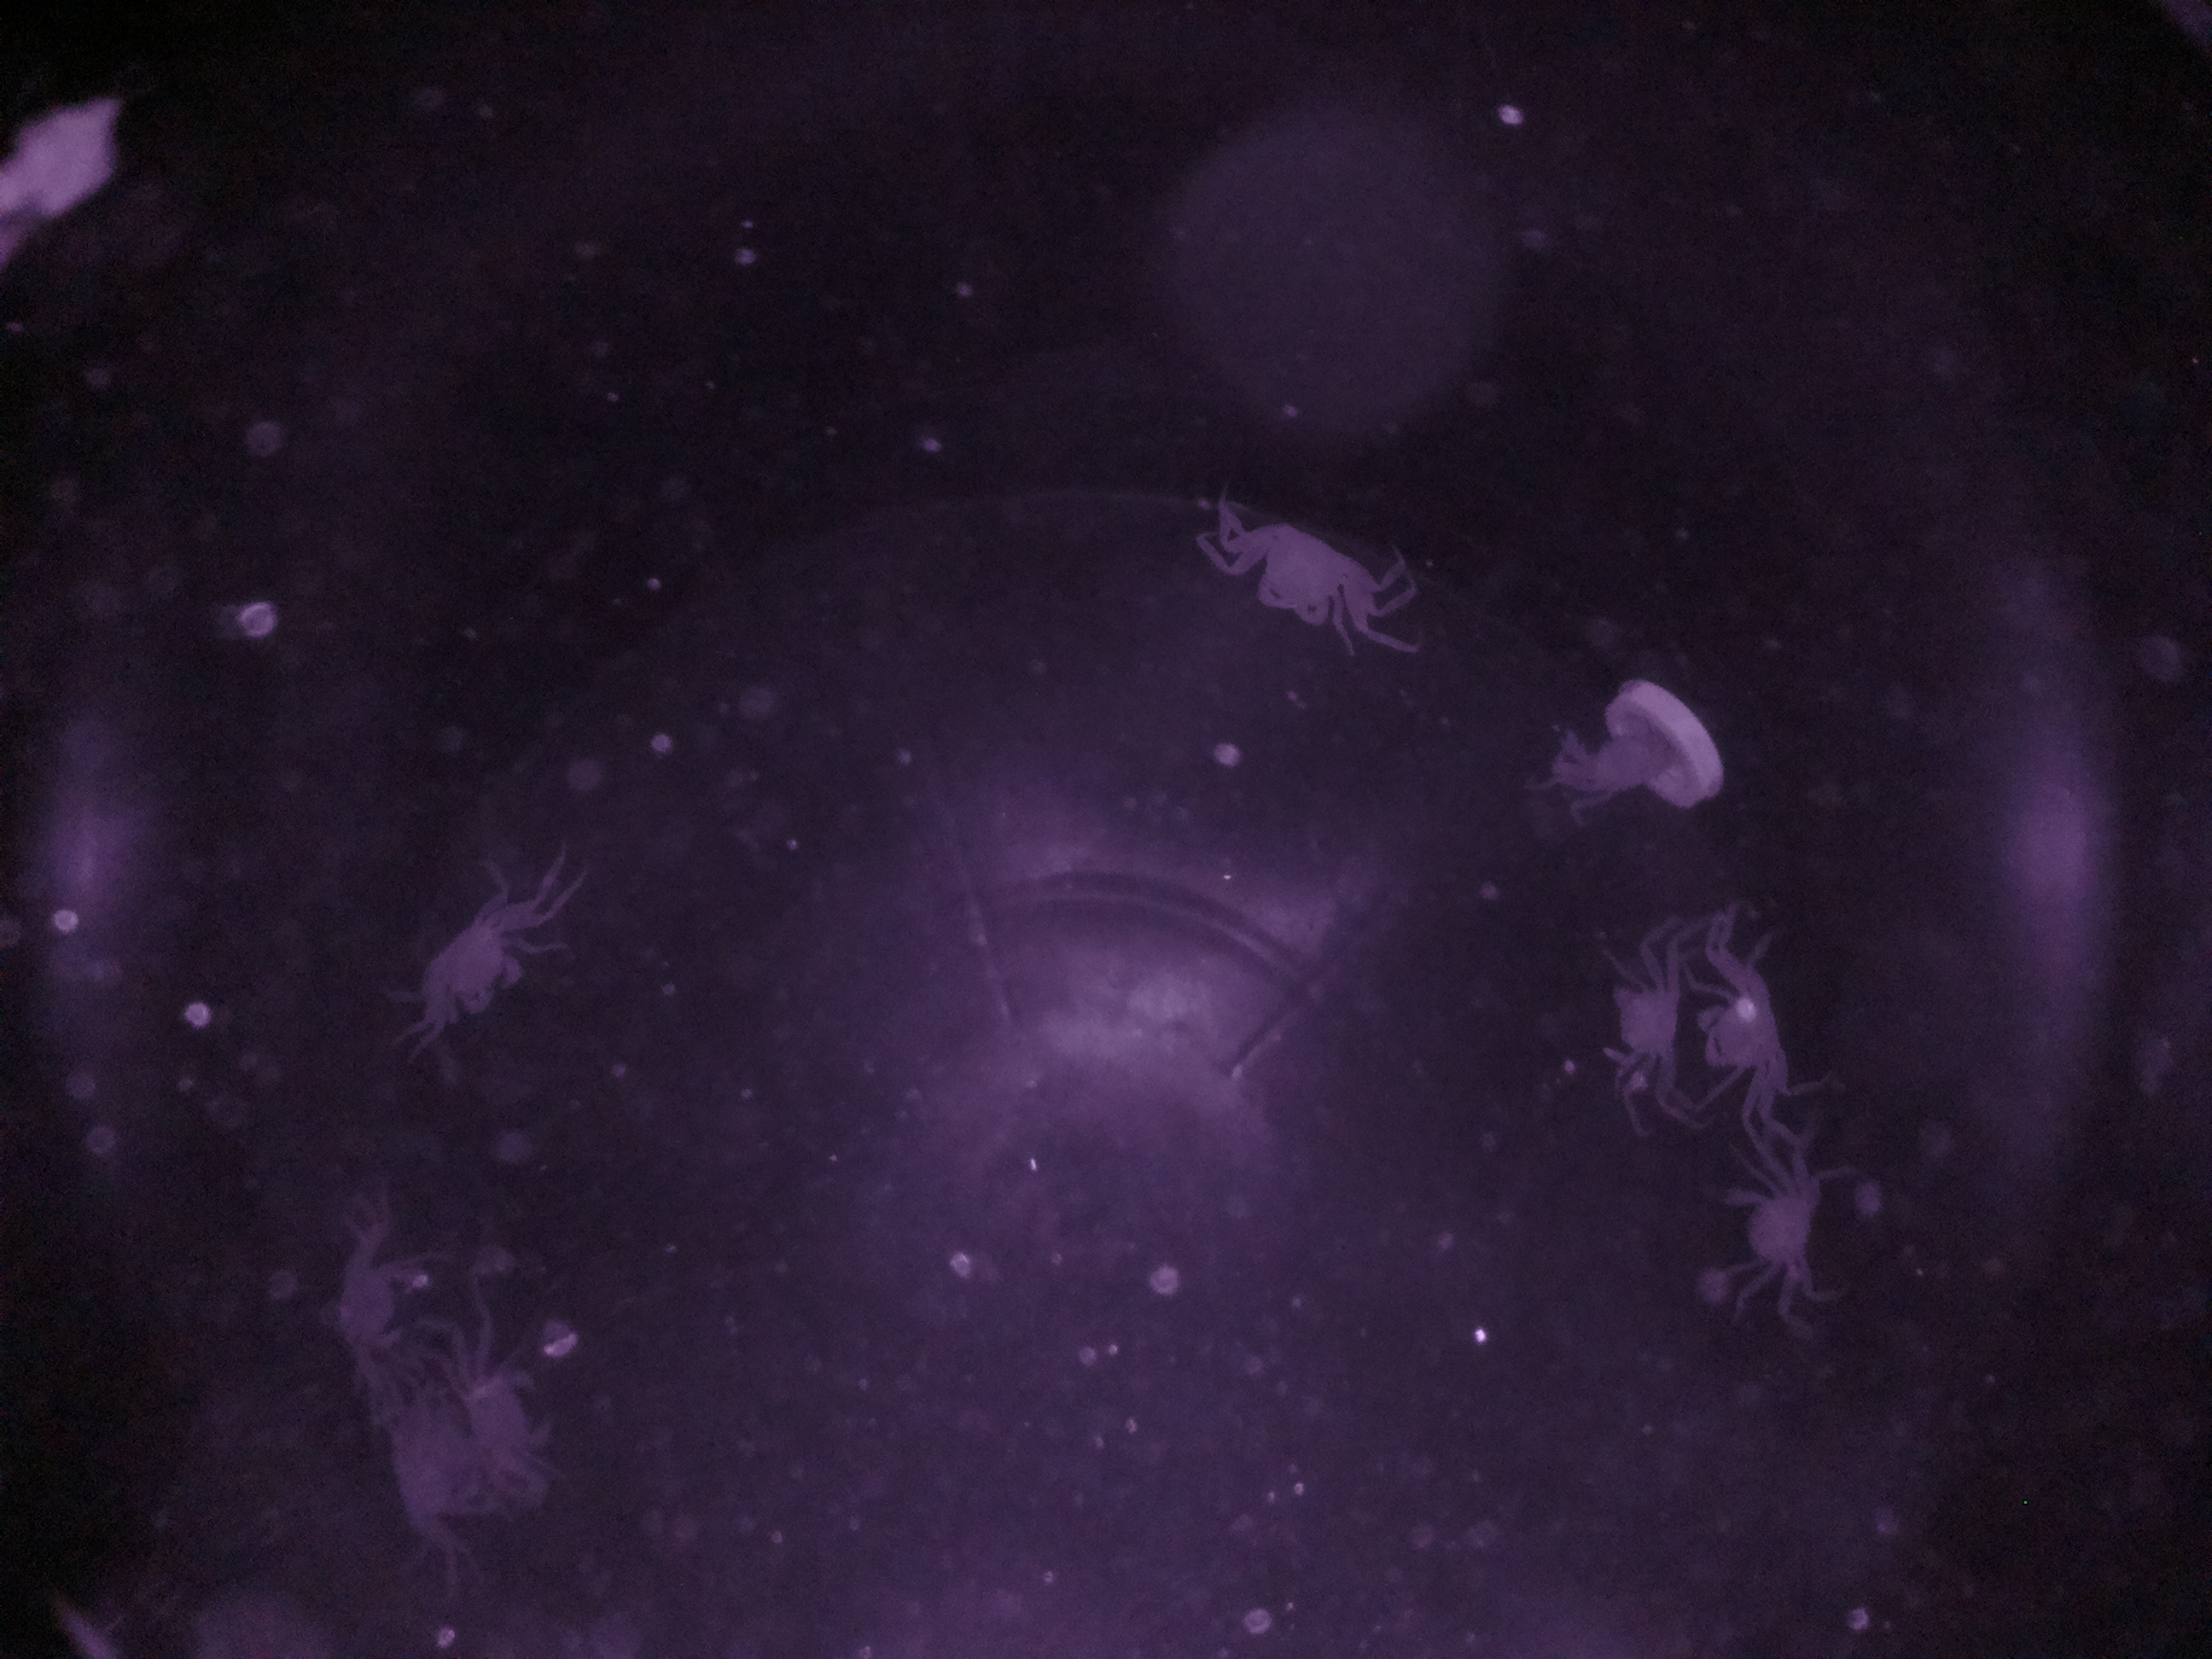Crab: (1209, 502, 1400, 652), (1696, 913, 1808, 1161), (404, 884, 550, 1063), (1581, 924, 1696, 1143), (1702, 1159, 1850, 1316)
